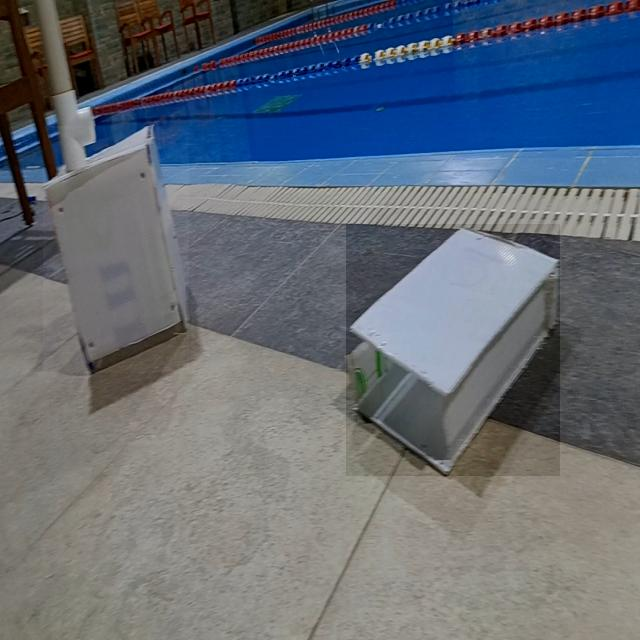Cube: (44, 126, 190, 373)
Cuboid: (347, 224, 560, 476)
